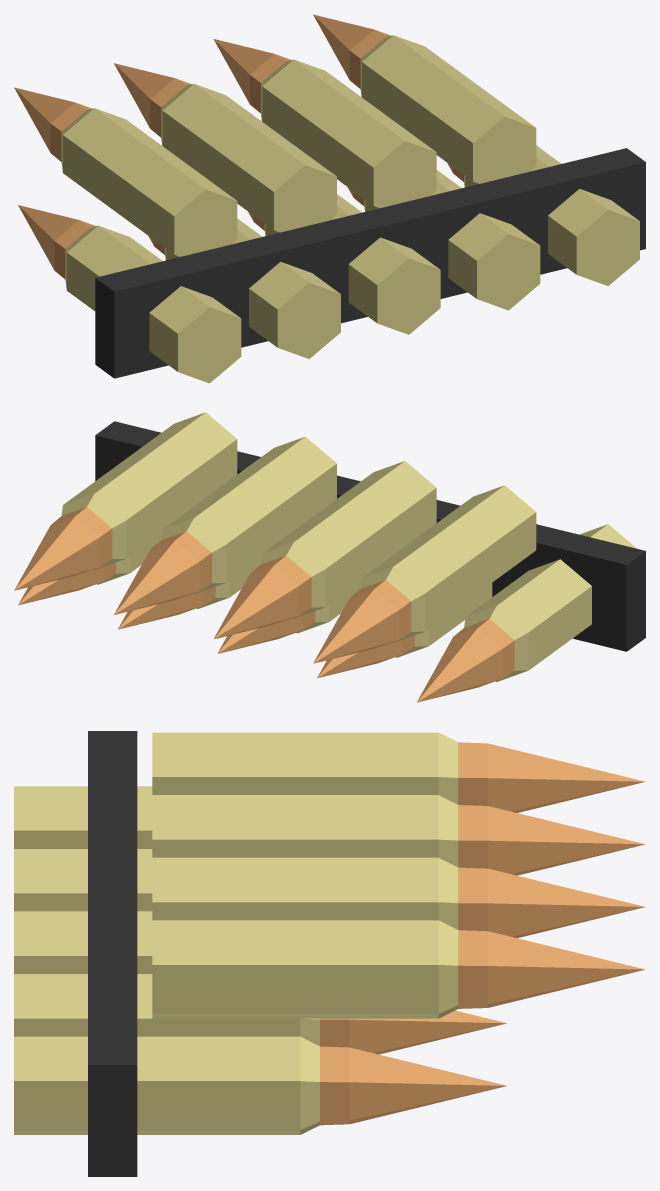
Rendered from ce_ammo_highcal_fmj_b.obj.
3 renders of one model, top to bottom at view 1: azimuth 30°, elevation 25°; view 2: azimuth 150°, elevation 25°; view 3: azimuth 270°, elevation 25°, orthographic. The views are drawn at different scales.
Visible parts, largest first — view 1: ce_ammo_highcal_fmj_b_36, ce_ammo_highcal_fmj_b_20, ce_ammo_highcal_fmj_b_32, ce_ammo_highcal_fmj_b_28, ce_ammo_highcal_fmj_b_24, ce_ammo_highcal_fmj_b_0, ce_ammo_highcal_fmj_b_12, ce_ammo_highcal_fmj_b_8, ce_ammo_highcal_fmj_b_4, ce_ammo_highcal_fmj_b_16, ce_ammo_highcal_fmj_b_27, ce_ammo_highcal_fmj_b_3 (+8 smaller); view 2: ce_ammo_highcal_fmj_b_36, ce_ammo_highcal_fmj_b_20, ce_ammo_highcal_fmj_b_24, ce_ammo_highcal_fmj_b_32, ce_ammo_highcal_fmj_b_28, ce_ammo_highcal_fmj_b_0, ce_ammo_highcal_fmj_b_27, ce_ammo_highcal_fmj_b_3, ce_ammo_highcal_fmj_b_31, ce_ammo_highcal_fmj_b_35, ce_ammo_highcal_fmj_b_23, ce_ammo_highcal_fmj_b_21 (+17 smaller); view 3: ce_ammo_highcal_fmj_b_32, ce_ammo_highcal_fmj_b_16, ce_ammo_highcal_fmj_b_36, ce_ammo_highcal_fmj_b_28, ce_ammo_highcal_fmj_b_20, ce_ammo_highcal_fmj_b_24, ce_ammo_highcal_fmj_b_12, ce_ammo_highcal_fmj_b_19, ce_ammo_highcal_fmj_b_35, ce_ammo_highcal_fmj_b_31, ce_ammo_highcal_fmj_b_27, ce_ammo_highcal_fmj_b_23 (+15 smaller).
Part boxes in pixels (bbox=[...]): ce_ammo_highcal_fmj_b_36: bbox=[95, 148, 645, 378]; ce_ammo_highcal_fmj_b_20: bbox=[63, 108, 237, 256]; ce_ammo_highcal_fmj_b_32: bbox=[362, 35, 536, 183]; ce_ammo_highcal_fmj_b_28: bbox=[262, 59, 436, 207]; ce_ammo_highcal_fmj_b_24: bbox=[162, 84, 336, 232]; ce_ammo_highcal_fmj_b_0: bbox=[66, 225, 241, 383]; ce_ammo_highcal_fmj_b_12: bbox=[365, 170, 540, 310]; ce_ammo_highcal_fmj_b_8: bbox=[266, 194, 440, 334]; ce_ammo_highcal_fmj_b_4: bbox=[166, 218, 340, 358]; ce_ammo_highcal_fmj_b_16: bbox=[465, 145, 639, 285]; ce_ammo_highcal_fmj_b_27: bbox=[114, 63, 174, 128]; ce_ammo_highcal_fmj_b_3: bbox=[18, 205, 78, 270]; ce_ammo_highcal_fmj_b_36: bbox=[95, 421, 645, 651]; ce_ammo_highcal_fmj_b_20: bbox=[363, 485, 536, 631]; ce_ammo_highcal_fmj_b_24: bbox=[263, 461, 436, 606]; ce_ammo_highcal_fmj_b_32: bbox=[63, 412, 237, 558]; ce_ammo_highcal_fmj_b_28: bbox=[163, 436, 336, 582]; ce_ammo_highcal_fmj_b_0: bbox=[466, 524, 636, 670]; ce_ammo_highcal_fmj_b_27: bbox=[214, 565, 299, 639]; ce_ammo_highcal_fmj_b_3: bbox=[417, 628, 502, 702]; ce_ammo_highcal_fmj_b_31: bbox=[114, 540, 199, 614]; ce_ammo_highcal_fmj_b_35: bbox=[14, 516, 99, 590]; ce_ammo_highcal_fmj_b_23: bbox=[313, 589, 398, 663]; ce_ammo_highcal_fmj_b_21: bbox=[360, 566, 425, 642]; ce_ammo_highcal_fmj_b_32: bbox=[152, 920, 438, 1018]; ce_ammo_highcal_fmj_b_16: bbox=[14, 1036, 300, 1134]; ce_ammo_highcal_fmj_b_36: bbox=[88, 731, 137, 1176]; ce_ammo_highcal_fmj_b_28: bbox=[152, 857, 438, 920]; ce_ammo_highcal_fmj_b_20: bbox=[152, 732, 438, 794]; ce_ammo_highcal_fmj_b_24: bbox=[152, 795, 438, 857]; ce_ammo_highcal_fmj_b_12: bbox=[14, 974, 300, 1036]; ce_ammo_highcal_fmj_b_19: bbox=[349, 1047, 506, 1123]; ce_ammo_highcal_fmj_b_35: bbox=[488, 931, 645, 1007]; ce_ammo_highcal_fmj_b_31: bbox=[488, 868, 644, 938]; ce_ammo_highcal_fmj_b_27: bbox=[488, 806, 645, 875]; ce_ammo_highcal_fmj_b_23: bbox=[488, 743, 645, 812].
Size of the model in its own units: 0.8 by 0.205 by 0.64.
